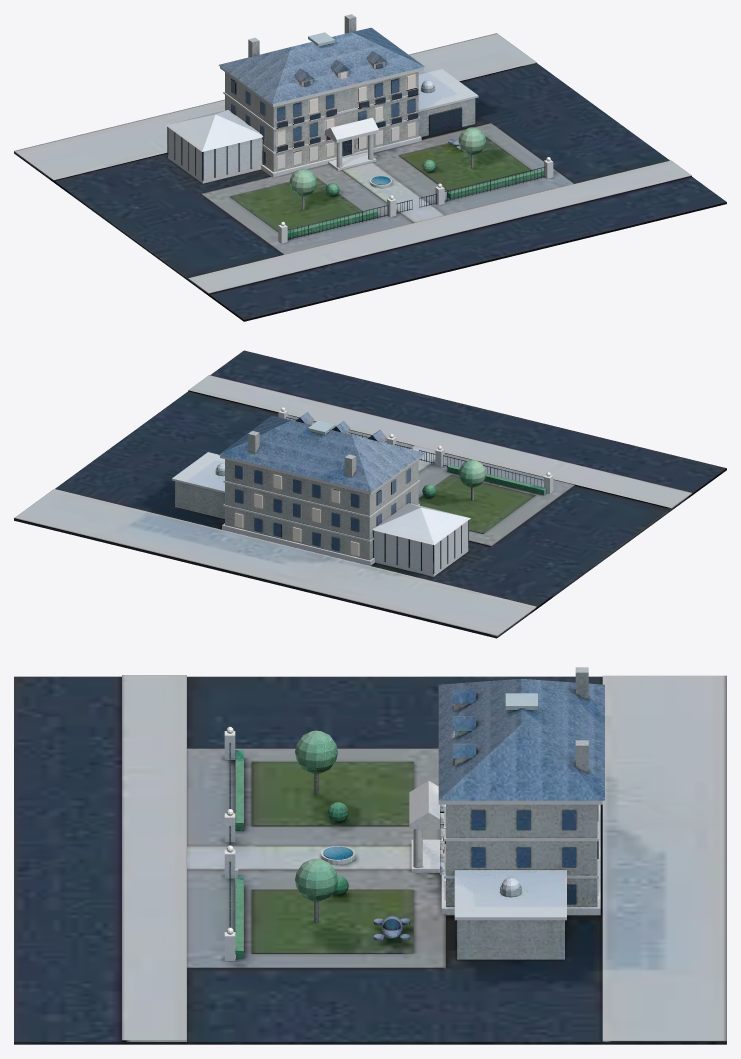
File: schneider_clinic_low.glb
The picture shows the model from 3 angles, top to bottom: view 1: azimuth 30°, elevation 25°; view 2: azimuth 150°, elevation 25°; view 3: azimuth 270°, elevation 25°; orthographic projection. The views are drawn at different scales.
Visible parts, largest first — view 1: site_ground, props_clinic, props_wing, props_front; view 2: site_ground, props_clinic, props_wing, props_front; view 3: site_ground, props_clinic, props_wing, props_front.
Part boxes in pixels (left/top/right/bottom): site_ground: left=14, top=33, right=726, bottom=321; props_clinic: left=218, top=14, right=424, bottom=177; props_wing: left=165, top=69, right=478, bottom=183; props_front: left=278, top=127, right=553, bottom=243; site_ground: left=14, top=350, right=726, bottom=638; props_clinic: left=218, top=412, right=424, bottom=565; props_wing: left=172, top=452, right=470, bottom=576; props_front: left=278, top=407, right=553, bottom=500; site_ground: left=14, top=675, right=726, bottom=1044; props_clinic: left=409, top=667, right=604, bottom=915; props_wing: left=373, top=870, right=566, bottom=959; props_front: left=224, top=726, right=355, bottom=960.
Size of the model in its own units: 80 by 16.6 by 66.01.
Materials: 4 (4 with a texture image).
